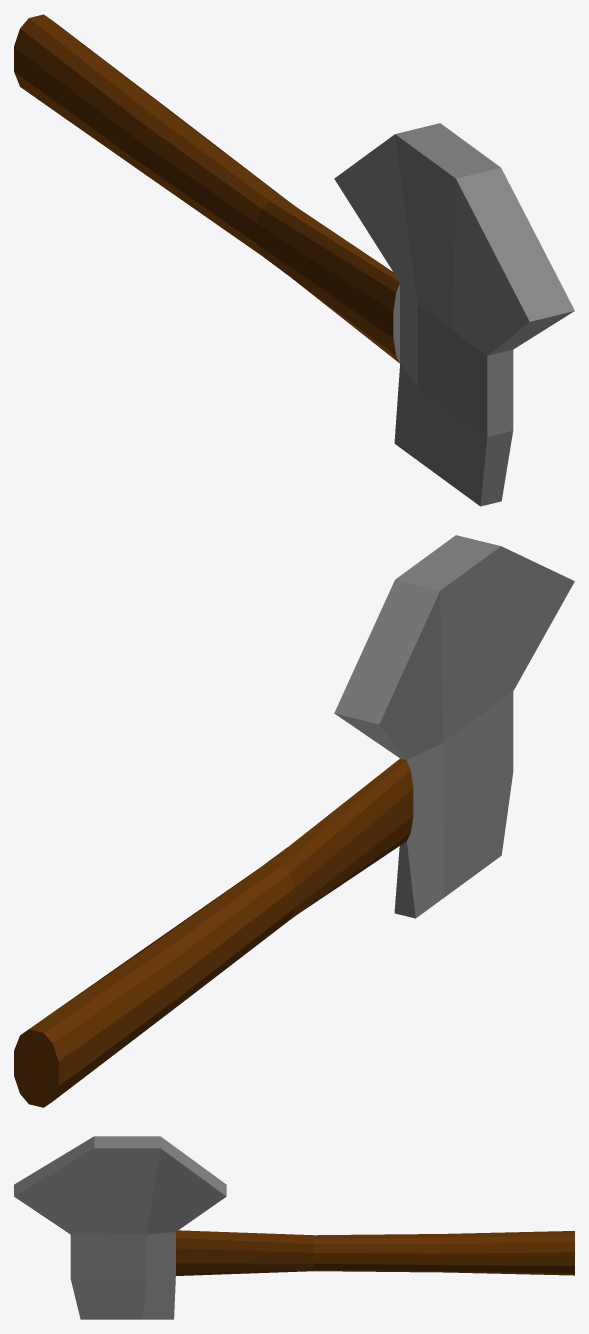
Rendered from Axe.fbx.
The picture shows the model from 3 angles, top to bottom: view 1: azimuth 30°, elevation 25°; view 2: azimuth 150°, elevation 25°; view 3: azimuth 270°, elevation 25°; orthographic projection. The views are drawn at different scales.
Parts seen in each view (by area): view 1: Axe; view 2: Axe; view 3: Axe.
Part boxes in pixels (bbox=[...]): Axe: bbox=[14, 14, 574, 506]; Axe: bbox=[14, 535, 574, 1107]; Axe: bbox=[14, 1136, 574, 1319].
Size of the model in its own units: 18.71 by 123 by 358.
